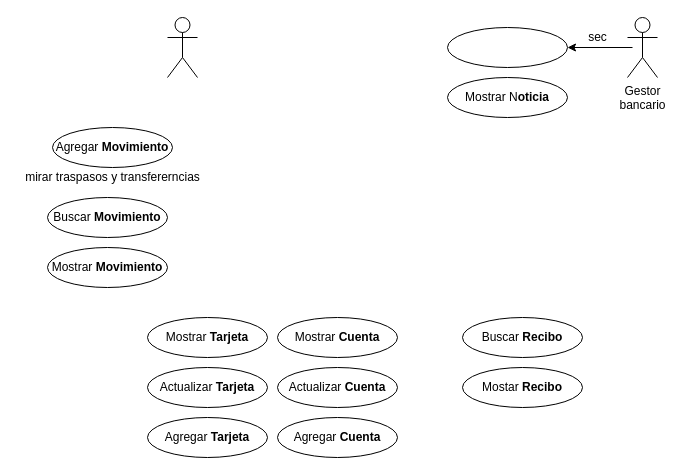
Some shapes in this 682 by 475 pixel diagram are drawn without their labels. The centre of each missing label's shape, as x and y in pixels:
"Agregar Consultas" belongs at point 507,47.
"Cliente" belongs at point 182,47.
